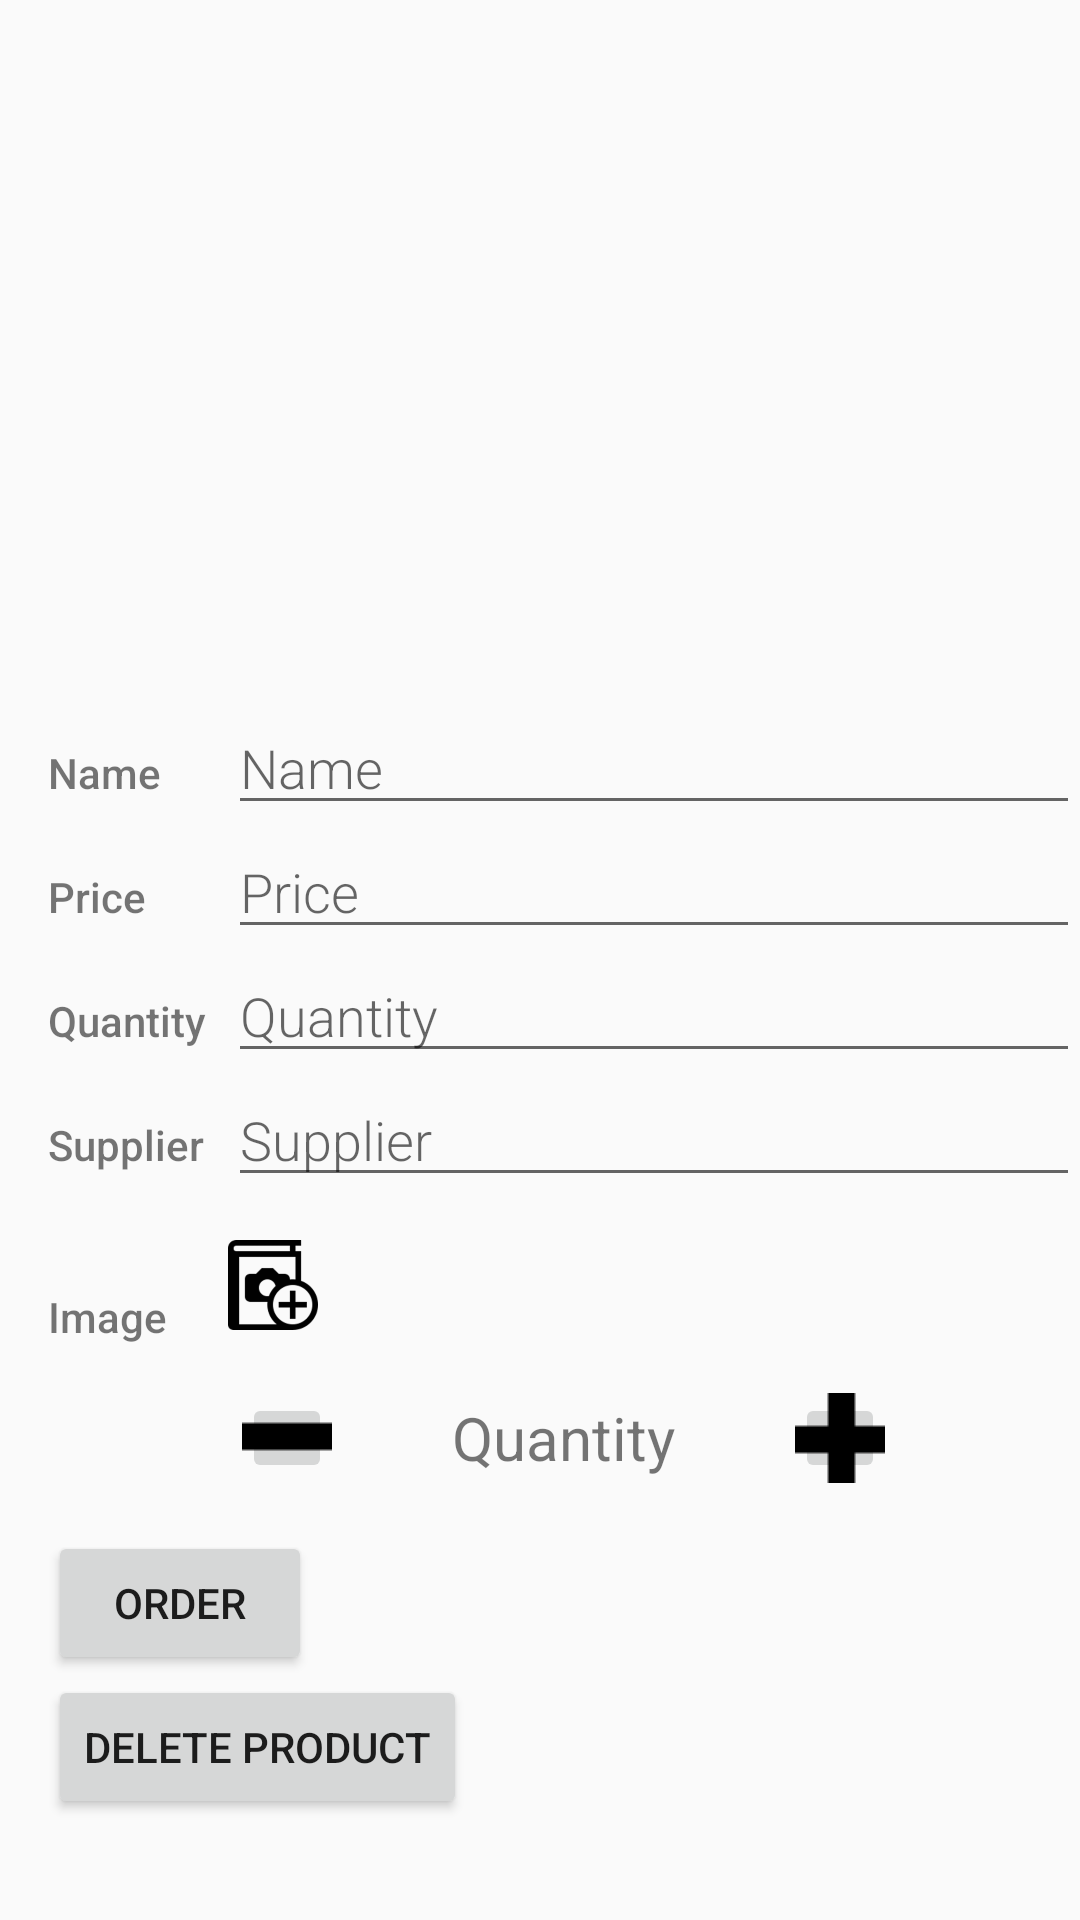

Named icons in this screenshot (1080×1920) and their centers, (x=x, y=y):
minus sign: (x=287, y=1438)
plus sign: (x=840, y=1438)
